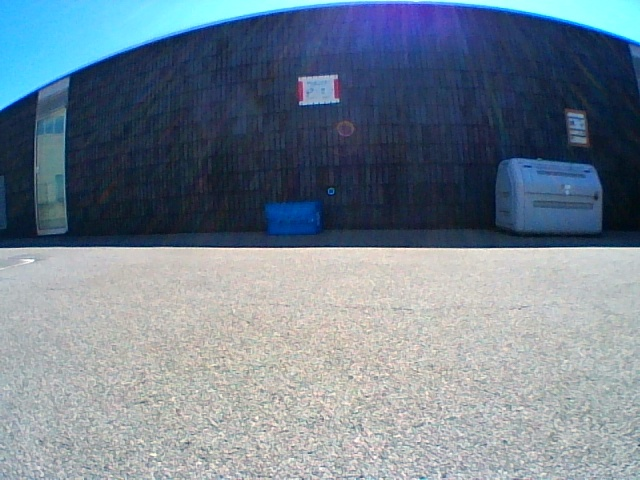blue_box: (266, 202, 319, 233)
